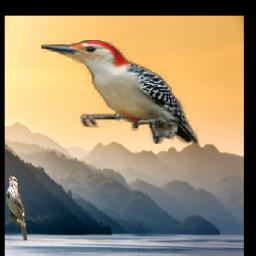Sparrow: (7, 174, 28, 241)
Woodpecker: (42, 40, 200, 144)
